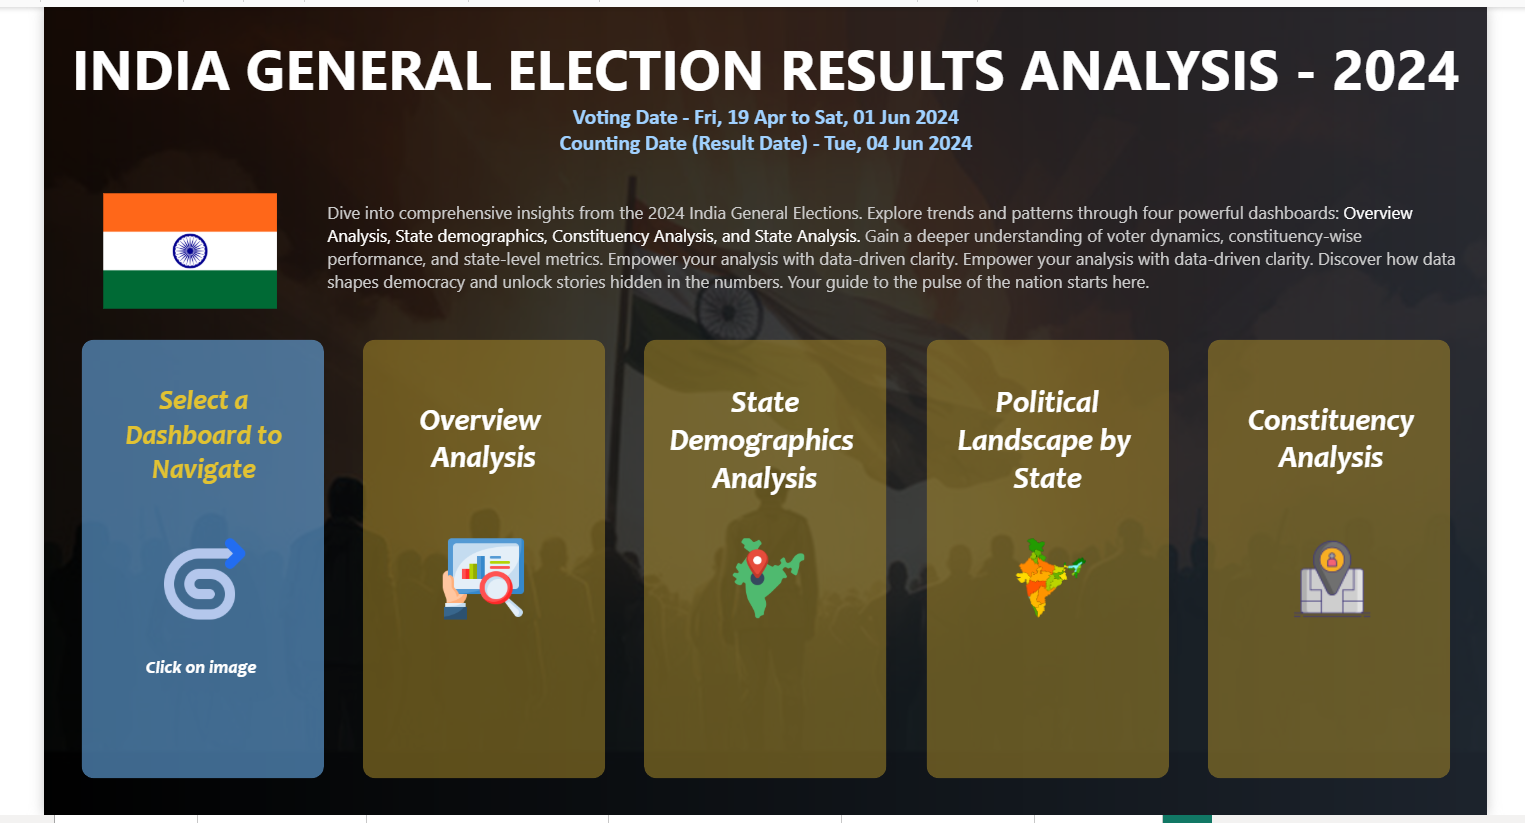

The dashboard page shown, as its layout file describes it:
{"tool":"powerbi","page":{"name":"Landing Page","canvas":[1250,700],"ordinal":0},"visuals":[{"type":"textbox","box":[0,15,1250,144],"z":0},{"type":"textbox","box":[240,162,1008,96],"z":1000},{"type":"image","box":[43,161,166,100],"z":2000},{"type":"shape","box":[32,288,210,380],"z":3000},{"type":"shape","box":[276,288,210,380],"z":4000},{"type":"shape","box":[520,288,210,380],"z":5000},{"type":"shape","box":[764,288,210,380],"z":6000},{"type":"shape","box":[1008,288,210,380],"z":7000},{"type":"textbox","box":[42,320,192,112],"z":8000},{"type":"textbox","box":[285,336,192,80],"z":9000},{"type":"textbox","box":[528,320,192,128],"z":10000},{"type":"textbox","box":[773,320,192,160],"z":11000},{"type":"textbox","box":[1018,336,192,80],"z":12000},{"type":"image","box":[345,460,70,70],"z":13000},{"type":"image","box":[592,460,70,70],"z":14000},{"type":"image","box":[837,460,70,70],"z":15000},{"type":"image","box":[1080,460,70,70],"z":16000},{"type":"image","box":[104,460,70,70],"z":17000},{"type":"textbox","box":[80,556,112,32],"z":18000}]}

Visuals, with their boxes on the page's 1250x700 design canvas (x1, y1, x2, y2). These are canvas units, not pixel positions in the 1525x823 screenshot, which may show the page scaled, cropped or inside an application window:
textbox: (0, 15, 1250, 159)
textbox: (240, 162, 1248, 258)
image: (43, 161, 209, 261)
shape: (32, 288, 242, 668)
shape: (276, 288, 486, 668)
shape: (520, 288, 730, 668)
shape: (764, 288, 974, 668)
shape: (1008, 288, 1218, 668)
textbox: (42, 320, 234, 432)
textbox: (285, 336, 477, 416)
textbox: (528, 320, 720, 448)
textbox: (773, 320, 965, 480)
textbox: (1018, 336, 1210, 416)
image: (345, 460, 415, 530)
image: (592, 460, 662, 530)
image: (837, 460, 907, 530)
image: (1080, 460, 1150, 530)
image: (104, 460, 174, 530)
textbox: (80, 556, 192, 588)
